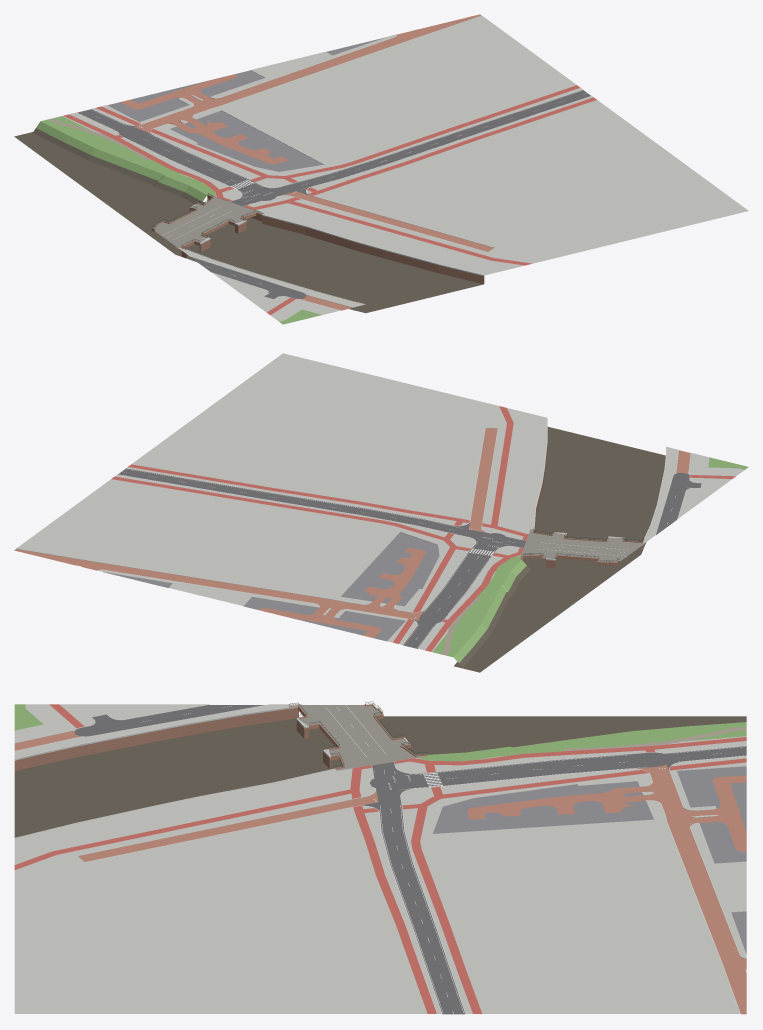
File: ground_9_7.glb
The picture shows the model from 3 angles, top to bottom: view 1: azimuth 30°, elevation 25°; view 2: azimuth 150°, elevation 25°; view 3: azimuth 270°, elevation 25°; orthographic projection. The views are drawn at different scales.
Visible parts, largest first — view 1: ground_9_7; view 2: ground_9_7; view 3: ground_9_7.
Part boxes in pixels (x1,y1,x2,y2): ground_9_7: (14,14,748,324); ground_9_7: (14,353,748,672); ground_9_7: (14,701,747,1015).
Bounding box in the file's own units: 201 × 4.6 × 201.
